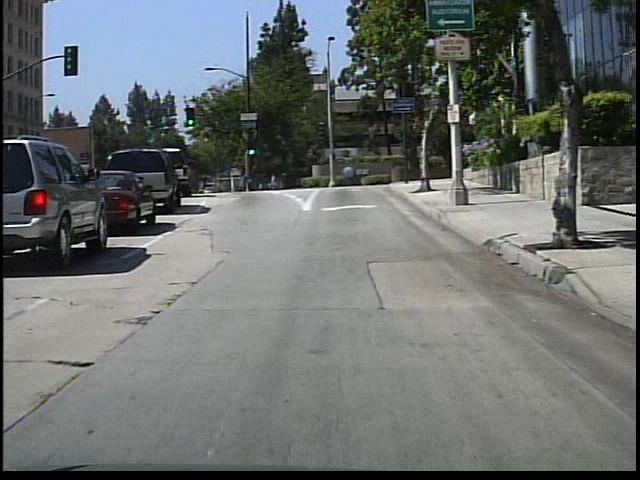person: (266, 167, 282, 193), (236, 168, 251, 193)
